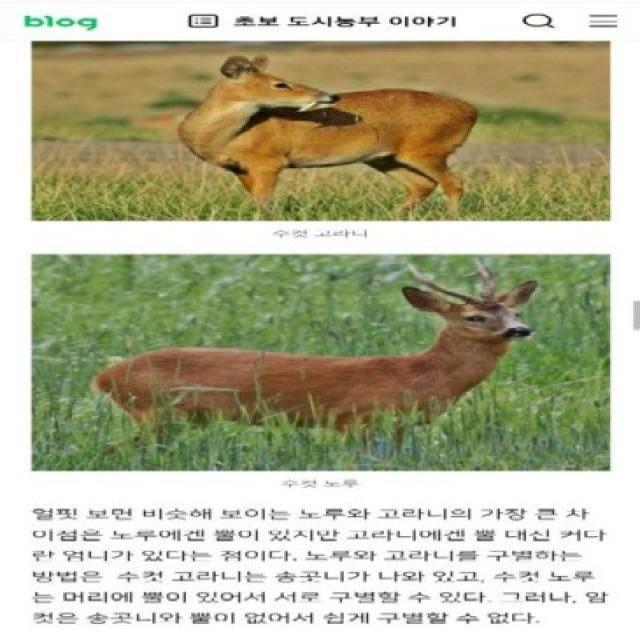deer: (133, 51, 540, 214)
